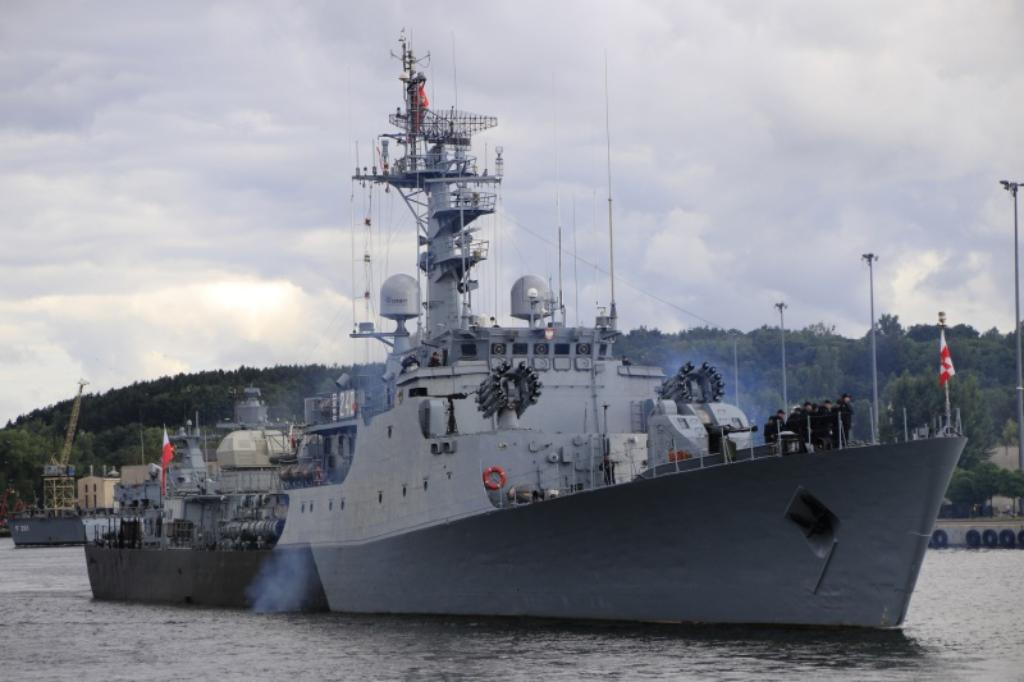Warship: (73, 30, 967, 634)
